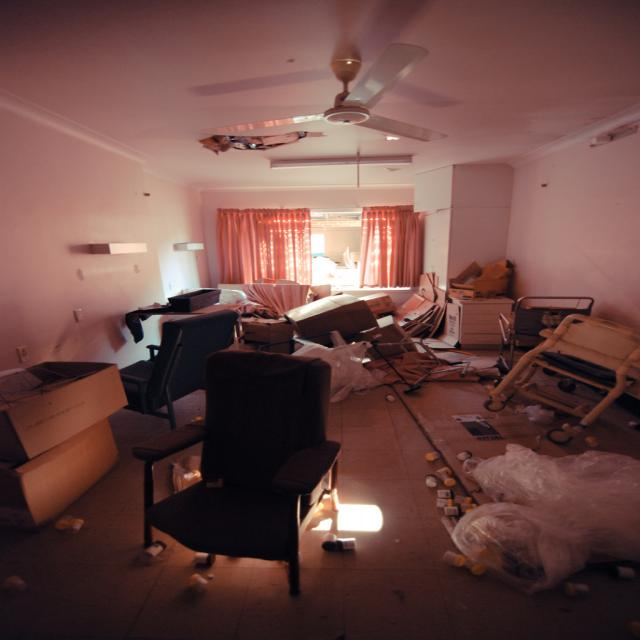Bulb: (206, 41, 449, 144)
